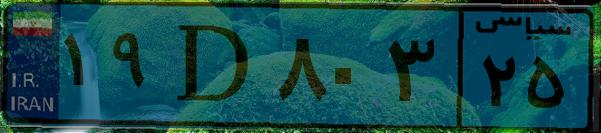0: (330, 28, 385, 110)
1: (57, 26, 110, 100)
2: (475, 38, 525, 113)
3: (385, 28, 445, 110)
5: (525, 38, 570, 115)
8: (270, 28, 330, 110)
9: (110, 28, 158, 98)
D: (158, 12, 270, 120)
